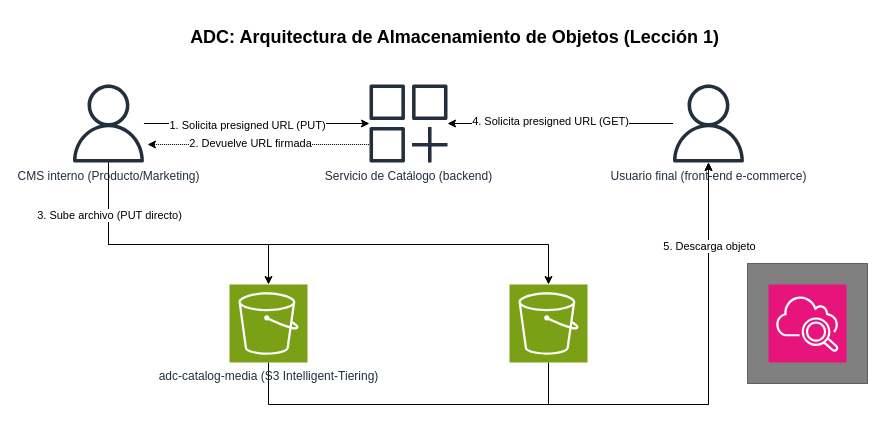
Some shapes in this 885 by 430 pixel diagram are drawn without their labels. Here are the shapes that lost their labels. From the top down, the centre of each, then its label:
At point (548, 323): "adc-catalog-docs (S3 Standard)".
At point (807, 323): "Fase futura - Lección 6".
